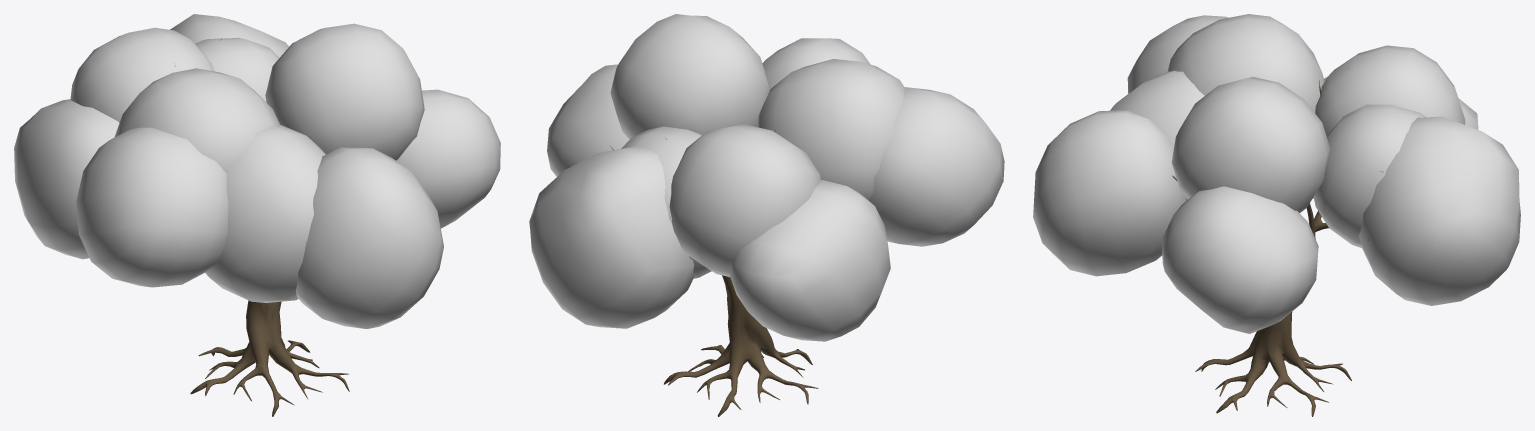
The model's file is willow_tree.glb.
The picture shows the model from 3 angles, left to right: view 1: azimuth 30°, elevation 25°; view 2: azimuth 150°, elevation 25°; view 3: azimuth 270°, elevation 25°; orthographic projection. The views are drawn at different scales.
Parts seen in each view (by area): view 1: Cube, Cube.004, Cube.001, Cube.005, Cube.008, Cube.003, Cube.002, Cube.009, Tree.002, Cube.007, Cube.006; view 2: Cube.006, Cube.008, Cube.004, Cube.009, Cube.001, Cube.003, Cube.002, Tree.002, Cube, Cube.007; view 3: Cube.006, Cube, Cube.002, Cube.001, Cube.003, Cube.007, Cube.009, Tree.002, Cube.005, Cube.004.
Boxes of the visible parts, x1,y1,x2,y2 form: Cube: (295, 147, 443, 328); Cube.004: (76, 127, 228, 287); Cube.001: (265, 23, 424, 160); Cube.005: (205, 124, 325, 302); Cube.008: (14, 99, 119, 259); Cube.003: (114, 68, 279, 173); Cube.002: (396, 89, 500, 228); Cube.009: (70, 27, 214, 122); Tree.002: (175, 38, 349, 416); Cube.007: (195, 37, 279, 102); Cube.006: (170, 14, 289, 57); Cube.006: (529, 146, 694, 328); Cube.008: (730, 180, 890, 341); Cube.004: (869, 87, 1004, 246); Cube.009: (669, 124, 820, 276); Cube.001: (610, 14, 770, 139); Cube.003: (757, 59, 904, 200); Cube.002: (547, 64, 629, 176); Tree.002: (610, 129, 818, 416); Cube: (762, 38, 870, 88); Cube.007: (621, 126, 711, 278); Cube.006: (1358, 116, 1520, 305); Cube: (1033, 110, 1185, 276); Cube.002: (1162, 186, 1318, 333); Cube.001: (1171, 77, 1330, 212); Cube.003: (1167, 14, 1324, 112); Cube.007: (1313, 104, 1425, 247); Cube.009: (1315, 45, 1465, 135); Tree.002: (1172, 68, 1382, 416); Cube.005: (1110, 70, 1204, 200); Cube.004: (1127, 15, 1228, 93).
Bounding box in the file's own units: 27.36 × 21.34 × 28.17.
